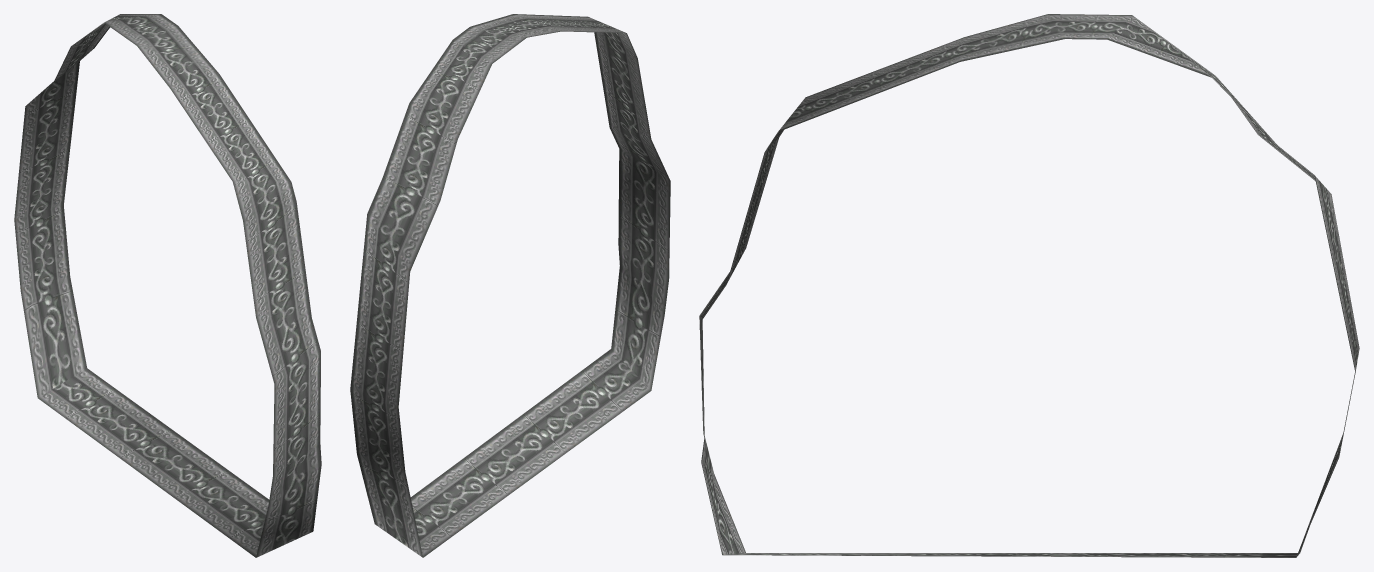
The model's file is EKH_BARRELROOM_PS_JA1_OBJECT09.fbx.
The picture shows the model from 3 angles, left to right: view 1: azimuth 30°, elevation 25°; view 2: azimuth 150°, elevation 25°; view 3: azimuth 270°, elevation 25°; orthographic projection. The views are drawn at different scales.
Visible parts, largest first — view 1: EKH_BARRELROOM_PS_JA1_OBJECT09; view 2: EKH_BARRELROOM_PS_JA1_OBJECT09; view 3: EKH_BARRELROOM_PS_JA1_OBJECT09.
Boxes of the visible parts, box(x1,y1,x2,y2) form: EKH_BARRELROOM_PS_JA1_OBJECT09: box(14, 14, 321, 557); EKH_BARRELROOM_PS_JA1_OBJECT09: box(350, 14, 670, 557); EKH_BARRELROOM_PS_JA1_OBJECT09: box(699, 14, 1359, 557).
Size of the model in its own units: 3541 by 30241 by 33286.
Materials: 1 (1 with a texture image).
